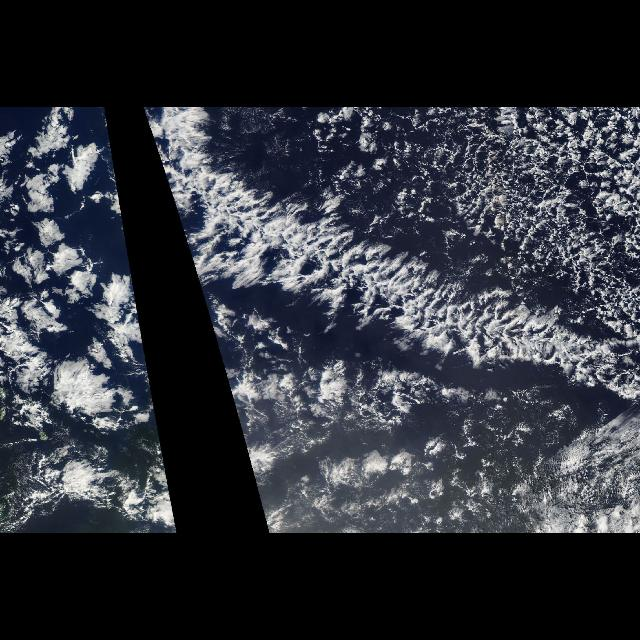Fish: (144, 118, 630, 424), (74, 118, 158, 422)
Flower: (1, 112, 113, 450)
Gravel: (376, 110, 636, 274), (285, 381, 515, 521)
